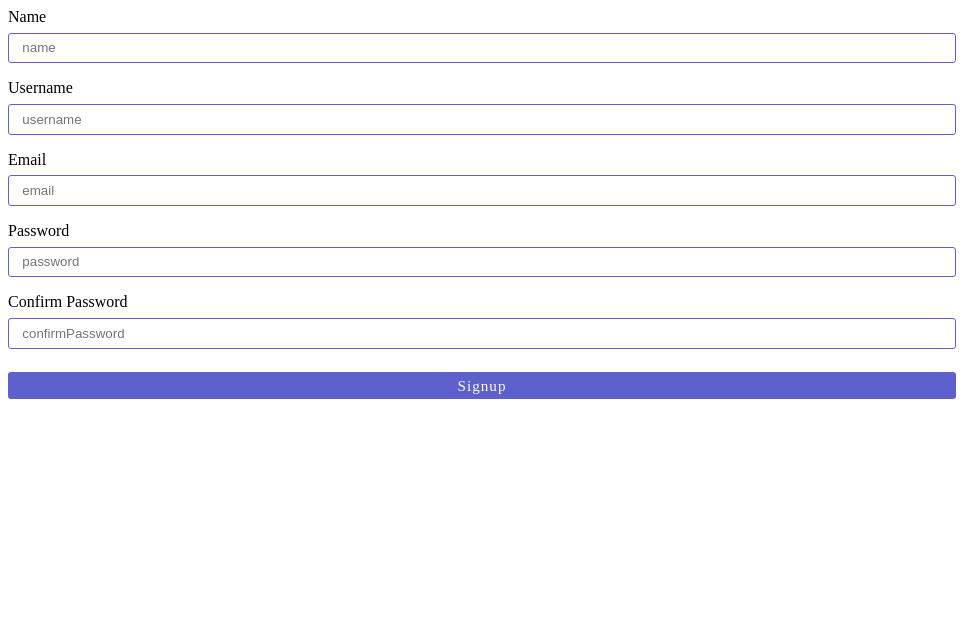
Signup Form › should display required error when fields are invalid
Type "testName!" into the field labelled "name". click: (482, 48)
box: [8,33,956,63]
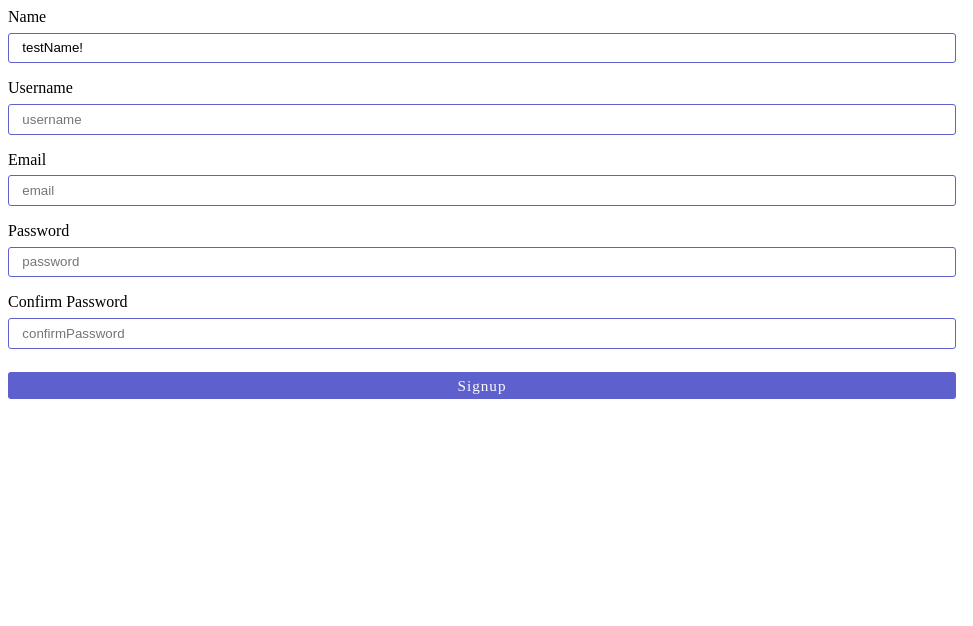
Type "testUser!" into the field labelled "username". click: (482, 119)
box: [8,104,956,135]
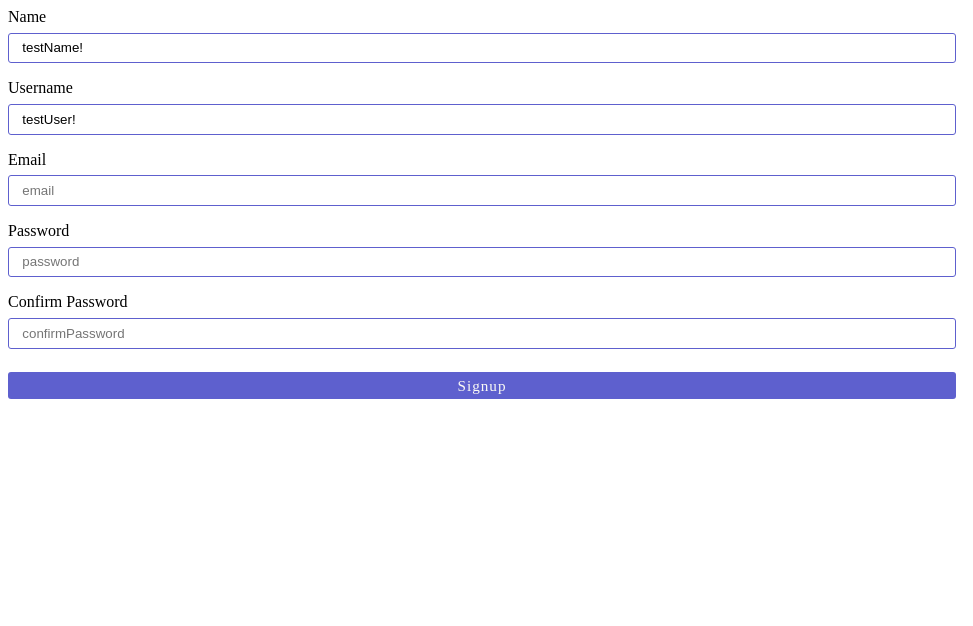
Type "testEmail" into the field labelled "email". click: (482, 191)
box: [8,175,956,206]
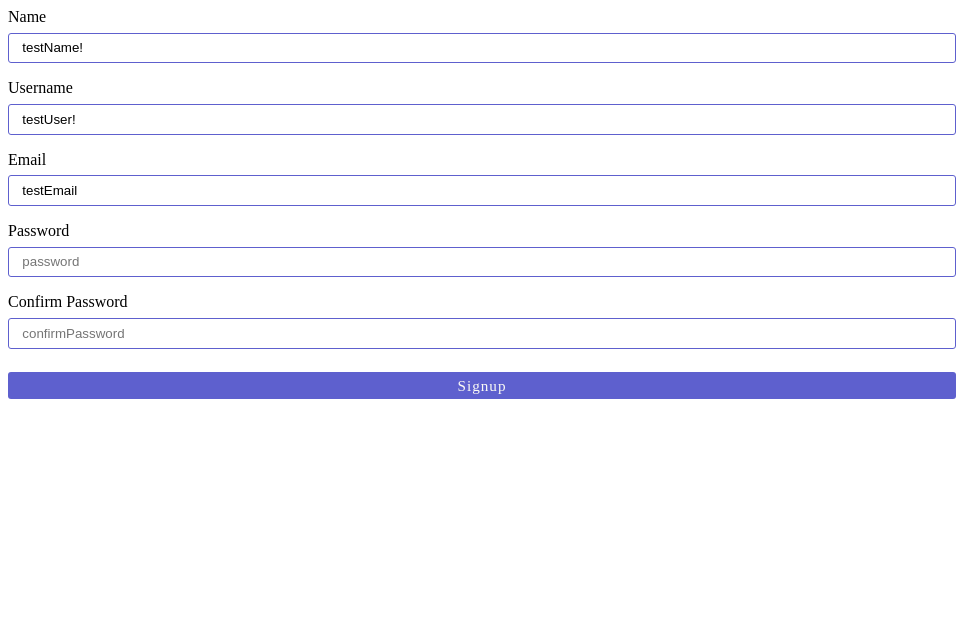
Type "testPassword!" into the password field labelled "password". click: (482, 262)
box: [8,247,956,277]
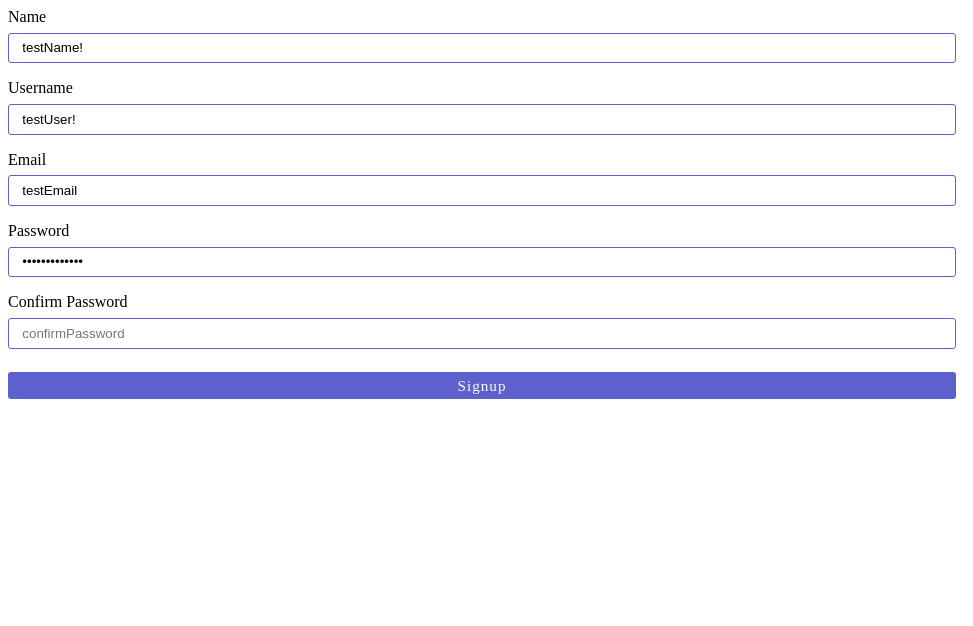
Type "testConfirm!" into the password field labelled "confirmPassword". click: (482, 333)
box: [8,318,956,349]
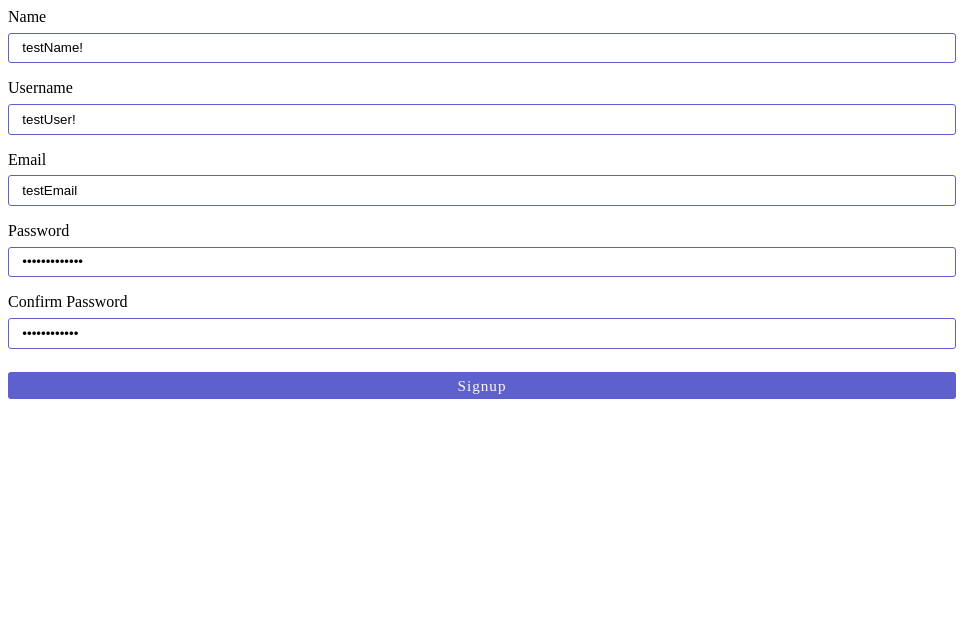
Submit the form from the button with test id "testSignup", box [8,372,956,399]
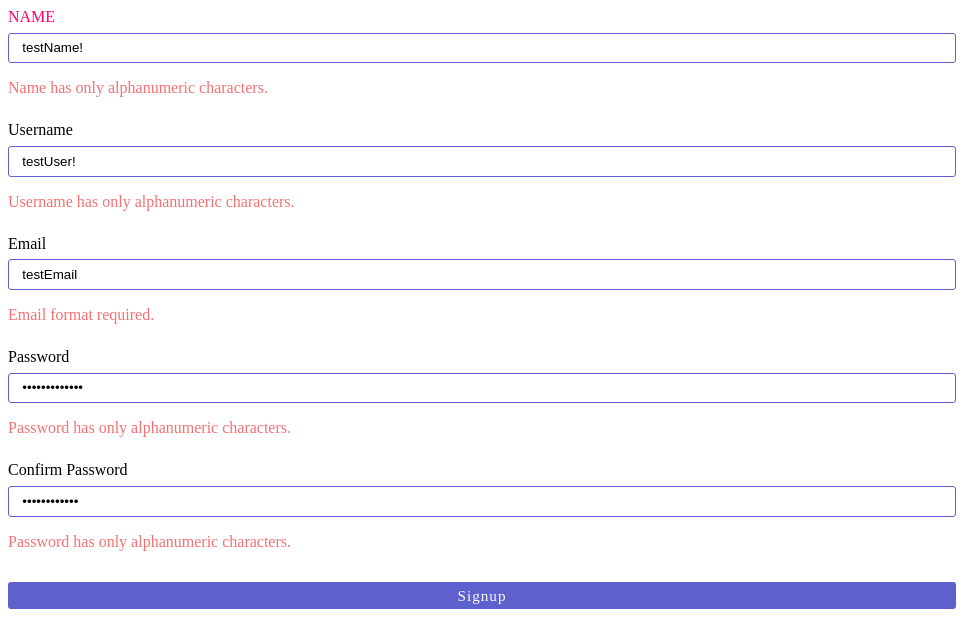
Expected: the text "Name has only alphanumeric characters." is shown, [8,79,268,96]
Expected: the text "Username has only alphanumeric characters." is shown, [8,193,294,210]
Expected: the text "Email format required." is shown, [8,306,154,323]
